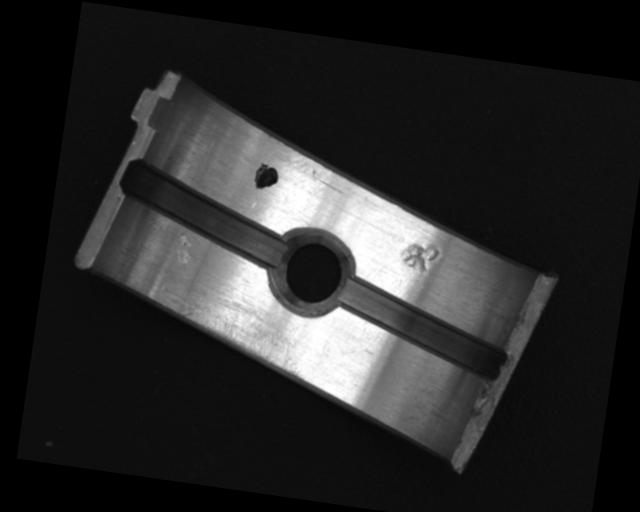blot: (252, 161, 281, 192)
bruise: (397, 238, 441, 275), (173, 232, 195, 267)
gap: (113, 157, 295, 267), (331, 275, 514, 381)
hole: (263, 224, 358, 319)
scratch: (164, 289, 316, 381)
